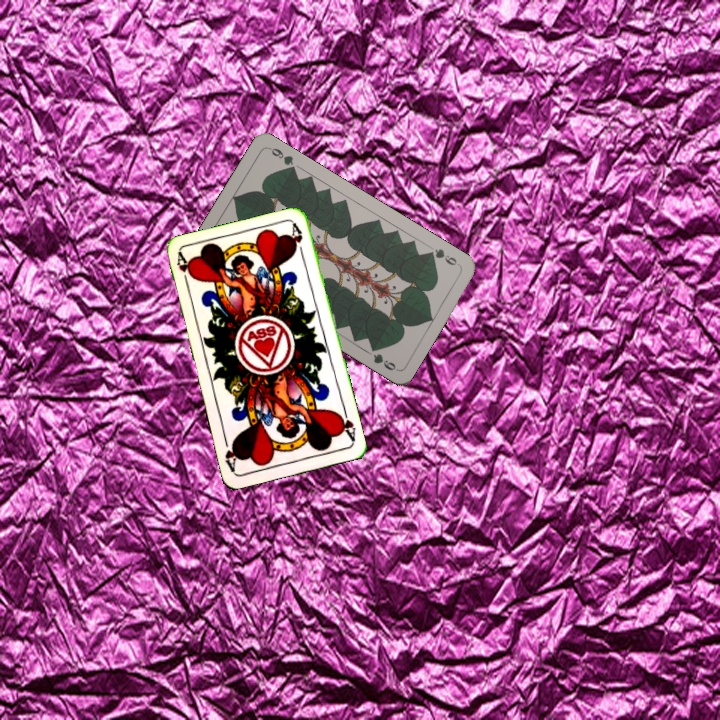G9: (423, 244, 462, 268)
HA: (333, 404, 358, 443), (172, 250, 196, 290)
